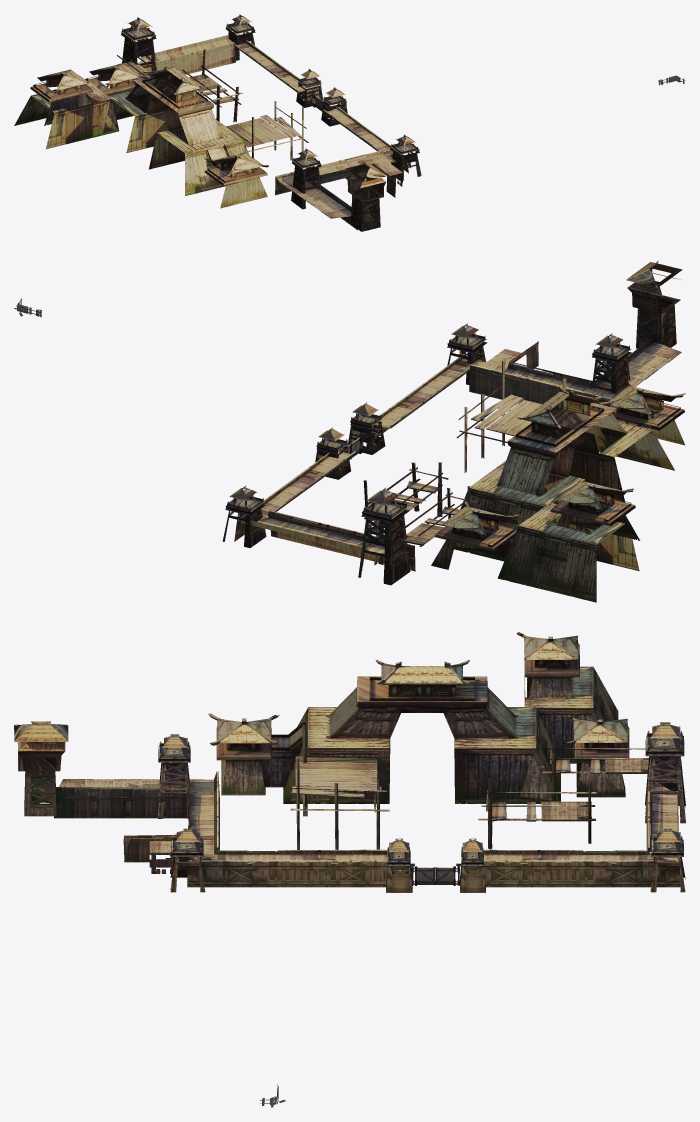
The picture shows the model from 3 angles, top to bottom: view 1: azimuth 30°, elevation 25°; view 2: azimuth 150°, elevation 25°; view 3: azimuth 270°, elevation 25°; orthographic projection. The views are drawn at different scales.
Visible parts, largest first — view 1: Bf_jz01_low; view 2: Bf_jz01_low; view 3: Bf_jz01_low.
Part boxes in pixels (box(x1,y1,x2,y2)): Bf_jz01_low: box(14, 14, 685, 231); Bf_jz01_low: box(14, 260, 685, 602); Bf_jz01_low: box(14, 632, 685, 1107).
Bounding box in the file's own units: 305 × 45.91 × 220.
1 material, 1 textured.
